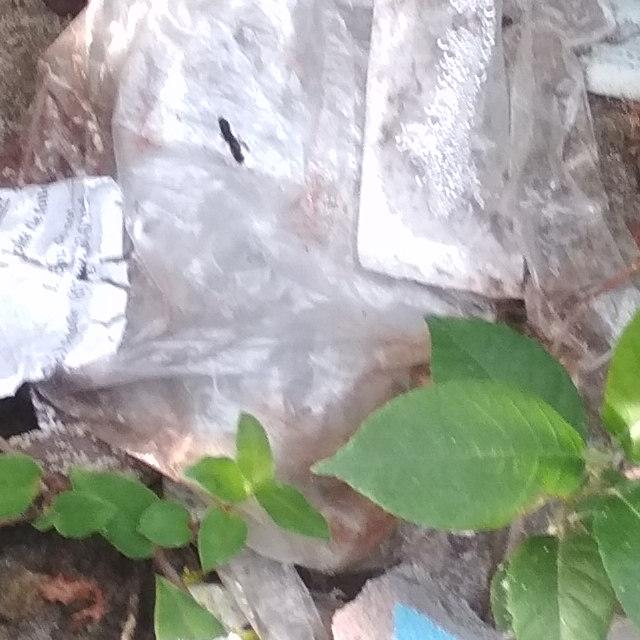paper: (0, 116, 158, 425)
plastic: (4, 0, 640, 561), (326, 0, 571, 303)
